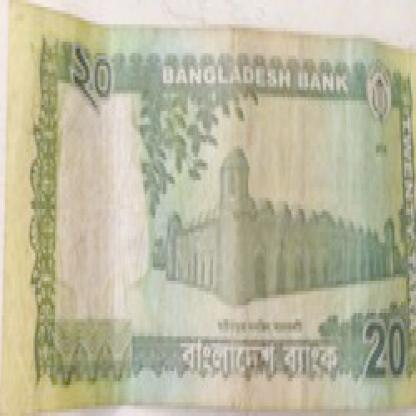Twenty: (359, 298, 406, 395), (68, 38, 125, 115)
